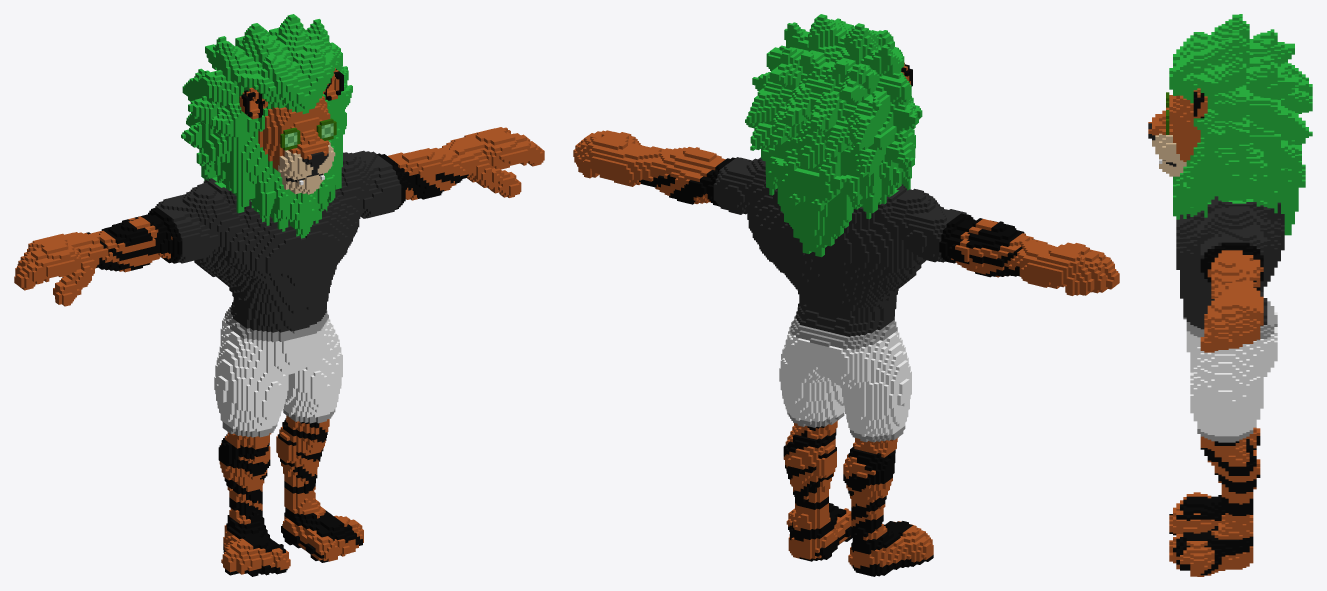
File: 792-WR1dtKhP.glb
The picture shows the model from 3 angles, left to right: view 1: azimuth 30°, elevation 25°; view 2: azimuth 150°, elevation 25°; view 3: azimuth 270°, elevation 25°; orthographic projection. The views are drawn at different scales.
Parts seen in each view (by area): view 1: standard; view 2: standard; view 3: standard.
Boxes of the visible parts, x1,y1,x2,y2 form: standard: (14,14,544,576); standard: (573,14,1119,576); standard: (1148,14,1312,576).
Bounding box in the file's own units: 17.2 × 16.5 × 4.7.
Materials: 5 (5 with a texture image).
